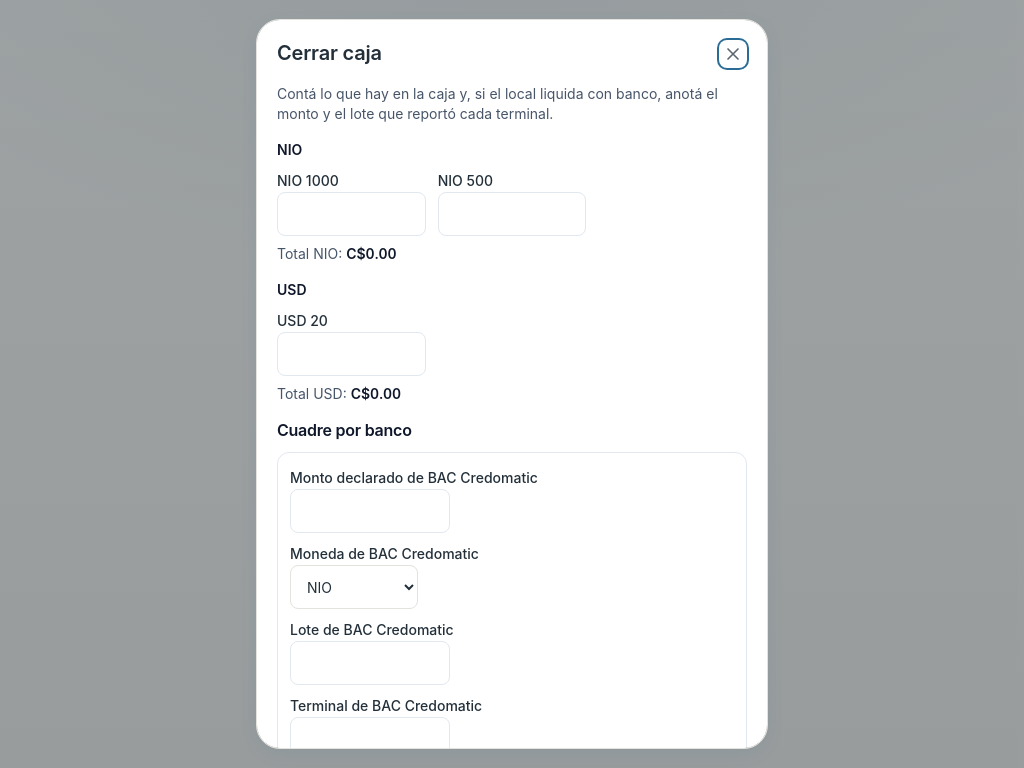
it: CashCloseModal › muestra el consolidado y la diferencia con lo cobrado, sin bloquear el cierre
Type "550" into the number field labelled "Monto declarado de BAC Credomatic" at (370, 511), box 290,489 -> 450,533
(page scrolled)
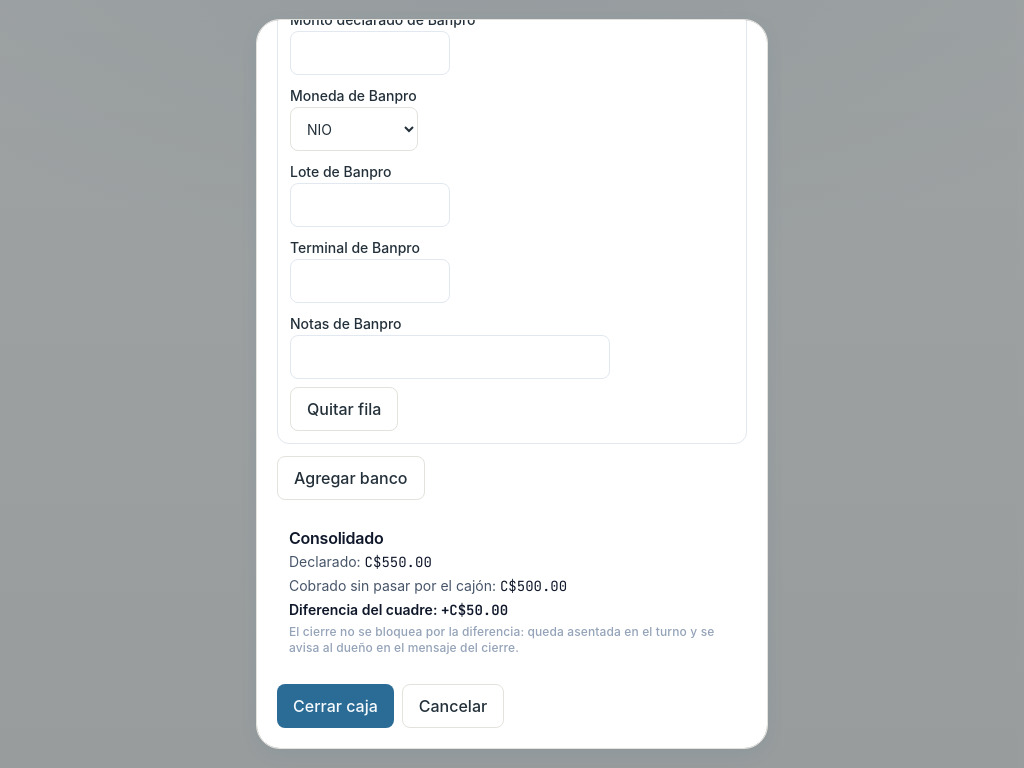
Expected: the button "Cerrar caja" is enabled, 277,684 -> 394,728
Now the text "Diferencia del cuadre: +C$50.00" is shown, box 289,601 -> 508,619
Now the text "+C$50.00" is shown, box 441,601 -> 508,619
